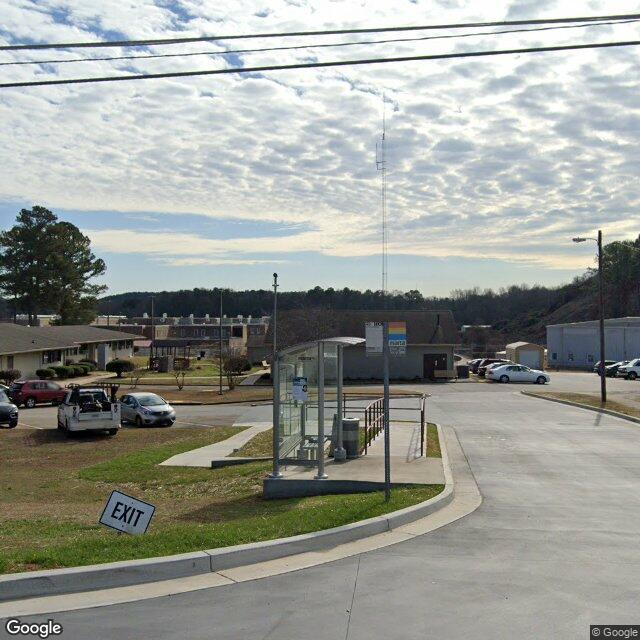seating: (304, 440, 332, 468)
shelter: (262, 336, 366, 479)
trash_can: (338, 418, 360, 460)
